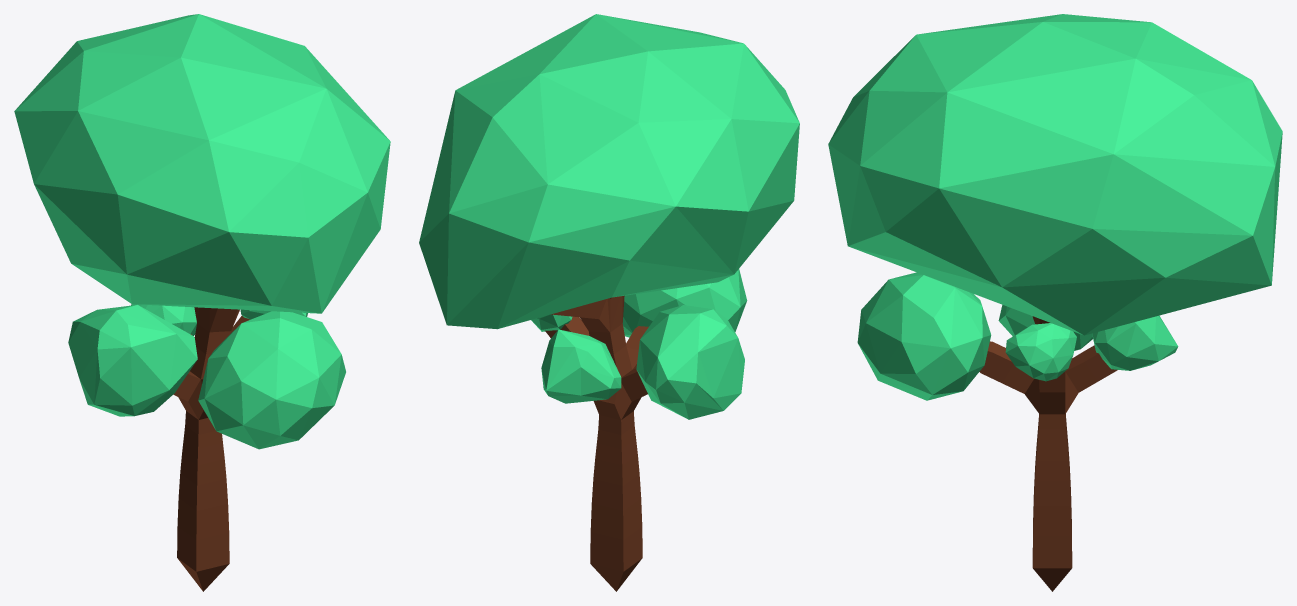
The model's file is TreeApple.fbx.
3 renders of one model, left to right at view 1: azimuth 30°, elevation 25°; view 2: azimuth 150°, elevation 25°; view 3: azimuth 270°, elevation 25°, orthographic. The views are drawn at different scales.
Parts seen in each view (by area): view 1: Icosphere, Plane; view 2: Icosphere, Plane; view 3: Icosphere, Plane.
Boxes of the visible parts, x1,y1,x2,y2 form: Icosphere: [14, 14, 390, 449]; Plane: [173, 307, 249, 591]; Icosphere: [419, 14, 799, 419]; Plane: [545, 295, 648, 591]; Icosphere: [828, 14, 1282, 400]; Plane: [979, 316, 1117, 591].
Bounding box in the file's own units: 622 × 1071 × 793.
